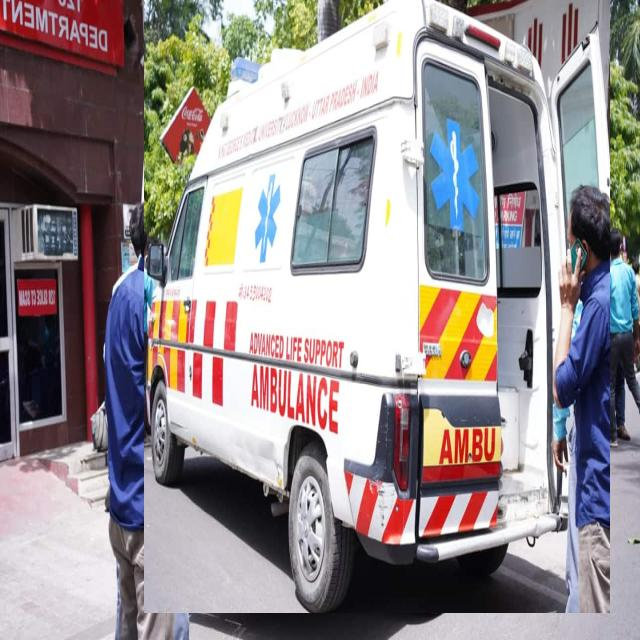emergency: (144, 0, 610, 613)
